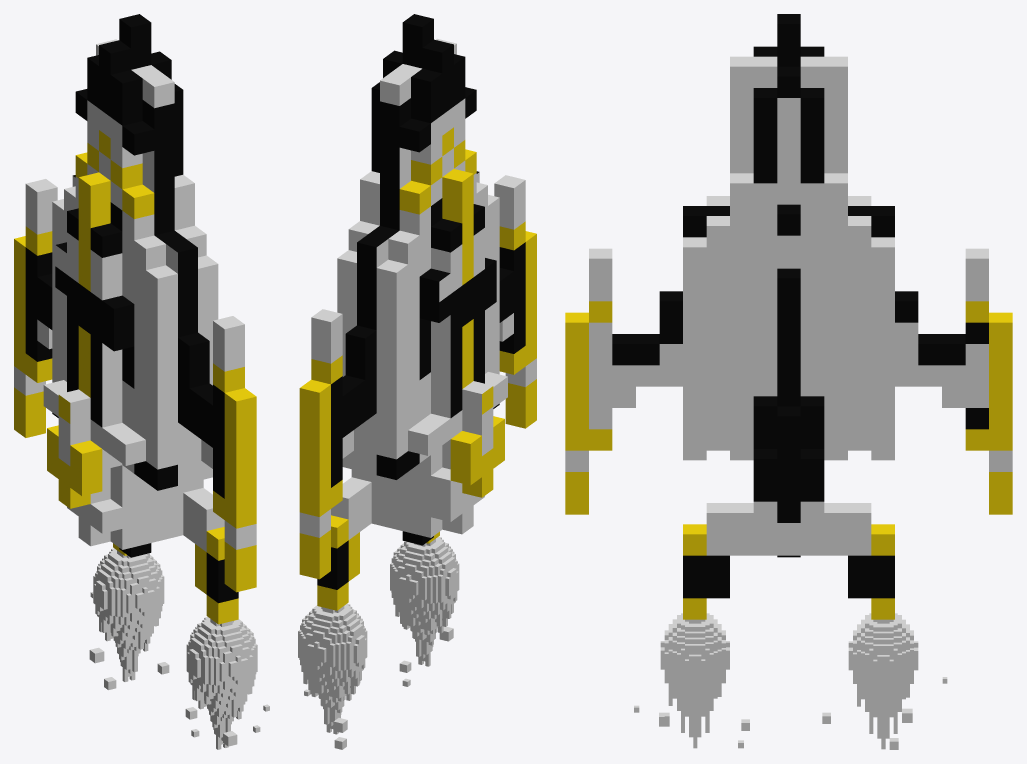
The model's file is Nave3.fbx.
The picture shows the model from 3 angles, left to right: view 1: azimuth 30°, elevation 25°; view 2: azimuth 150°, elevation 25°; view 3: azimuth 270°, elevation 25°; orthographic projection. The views are drawn at different scales.
Visible parts, largest first — view 1: model.002, model.009, model.008; view 2: model.002, model.009, model.008; view 3: model.002, model.009, model.008.
Boxes of the visible parts, box(x1,y1,x2,y2) form: model.002: box(14, 14, 256, 624); model.009: box(93, 548, 164, 681); model.008: box(186, 617, 257, 749); model.002: box(299, 14, 536, 610); model.009: box(298, 603, 367, 734); model.008: box(390, 536, 459, 666); model.002: box(565, 14, 1012, 619); model.009: box(848, 613, 918, 749); model.008: box(660, 613, 729, 748).
Size of the model in its own units: 212 by 567 by 1001.
